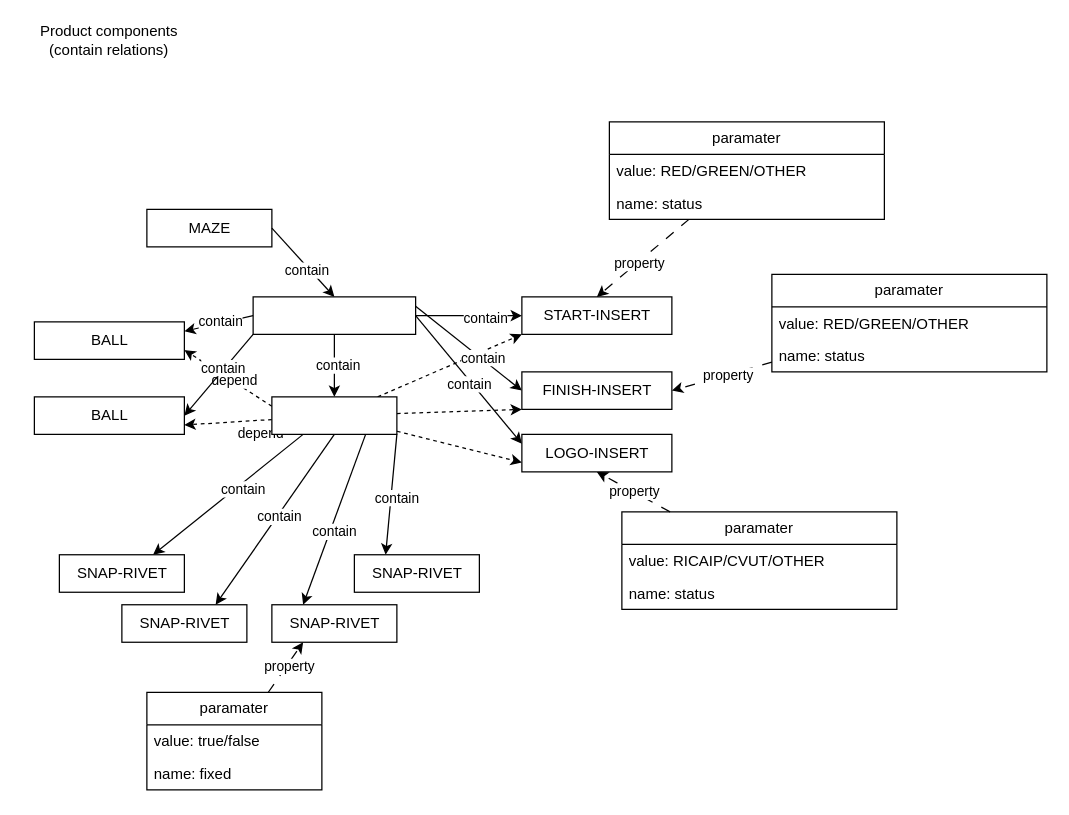
Some shapes in this 1069 by 815 pixel diagram are drawn without their labels. The centre of each missing label's shape, as x and y in pixels:
COVER: point (334, 415)
MAZE-BASE: point (334, 315)
